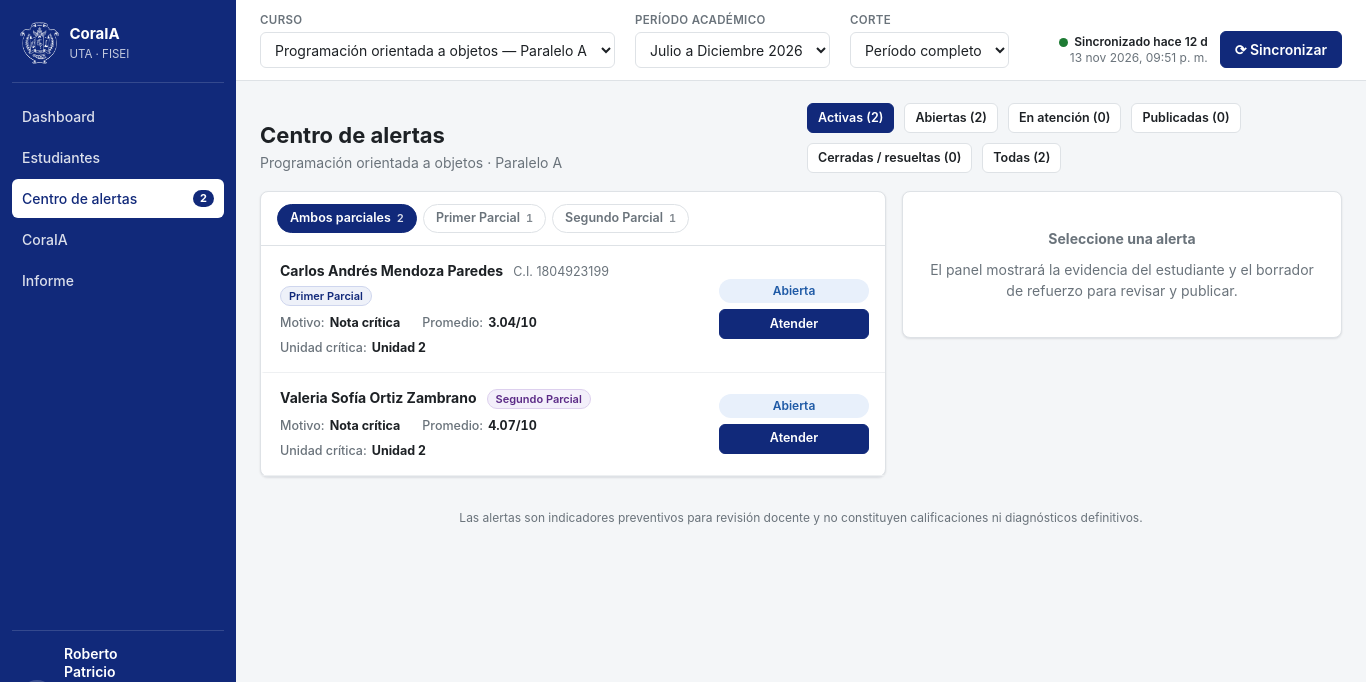
Test: RF-07 / RF-10 · Centro de alertas › el panel cambia al instante al estudiante elegido y descarta la respuesta tardía de la alerta anterior
Note: Atender a Carlos: el panel muestra a Carlos sin esperar al backend
Click the 1st button "Atender" at (794, 324), box [719,309,869,339]
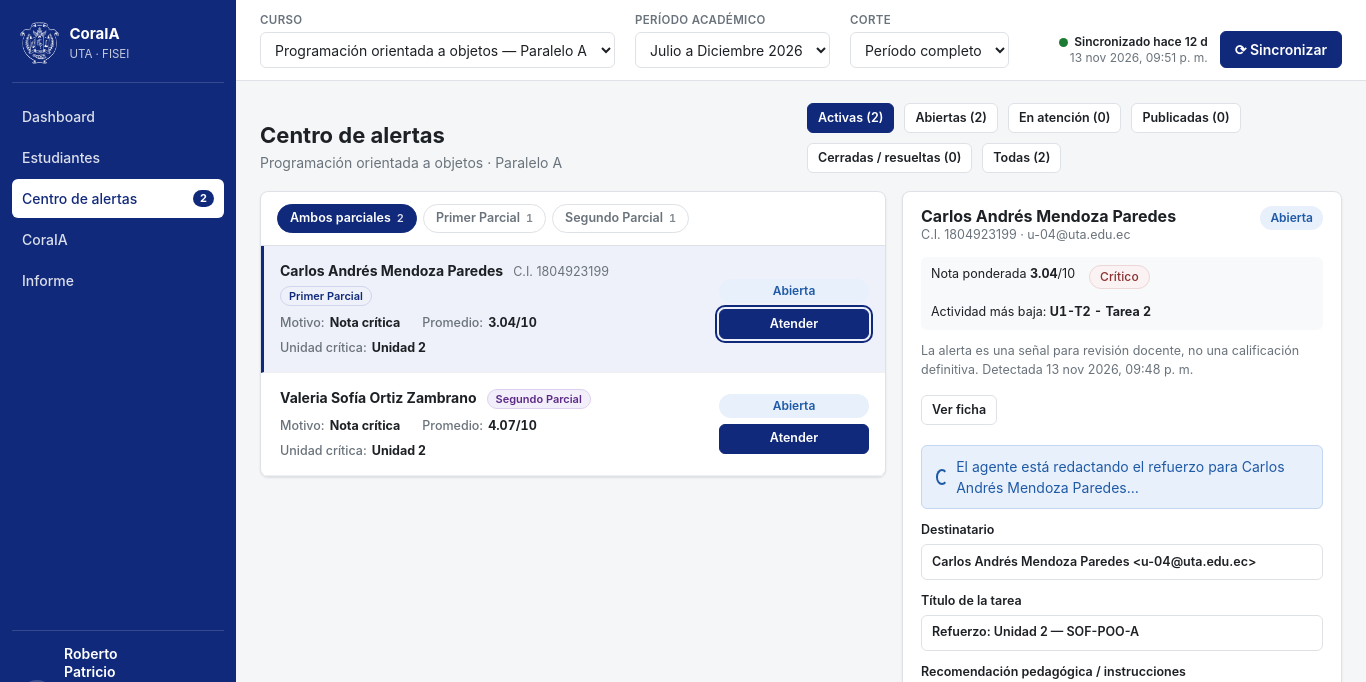
Check: the heading with test id "panel-destinatario" reads "Carlos Andrés Mendoza Paredes", box [921,206,1176,226]
Check: the field showing "Carlos Andrés Mendoza Paredes <u-04@uta.edu.ec>" is shown, box [921,544,1323,580]
Note: Antes de que responda, el docente atiende a Valeria: el panel cambia de inmediato
Click the 2nd button "Atender" at (794, 439), box [719,424,869,454]
(page scrolled)
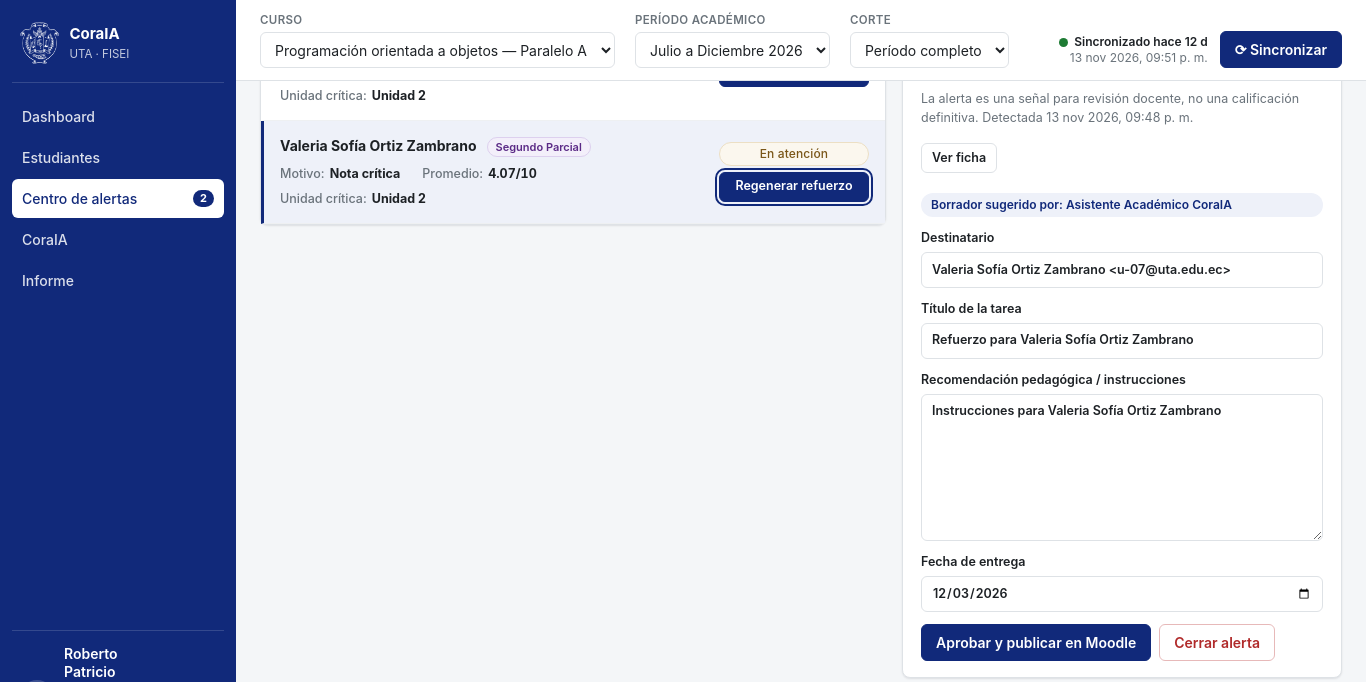
Check: the text box showing "Instrucciones para Valeria Sofía Ortiz Zambrano" is shown, box [921,394,1323,541]
